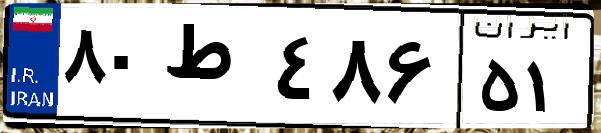0: (110, 28, 158, 98)
1: (525, 38, 570, 115)
4: (270, 28, 330, 110)
5: (475, 38, 525, 113)
6: (385, 28, 445, 110)
8: (330, 28, 385, 110), (57, 26, 110, 100)
ط: (158, 20, 270, 120)
